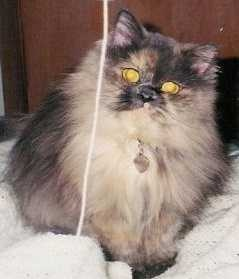Cat: (14, 9, 225, 263)
